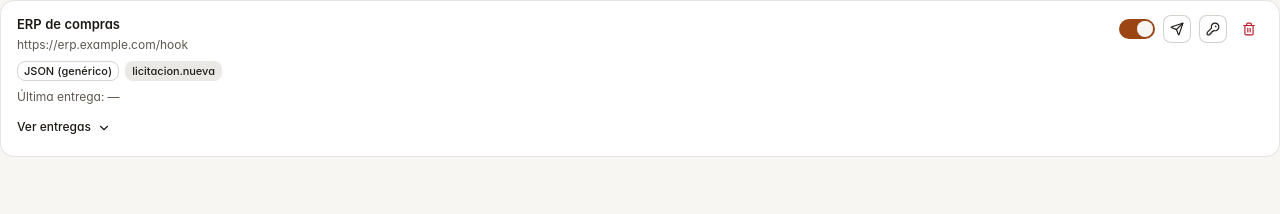
WebhookRow — eliminar › el primer clic solo arma la confirmación, sin window.confirm ni petición
Click the button named "Eliminar ERP de compras": x=1249, y=29 [1235,15,1263,43]
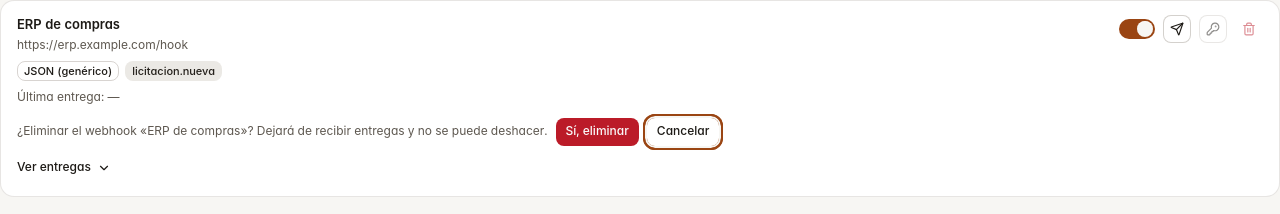
Now the element named "Confirmar la eliminación de ERP de compras" is shown, box [17,118,719,146]
